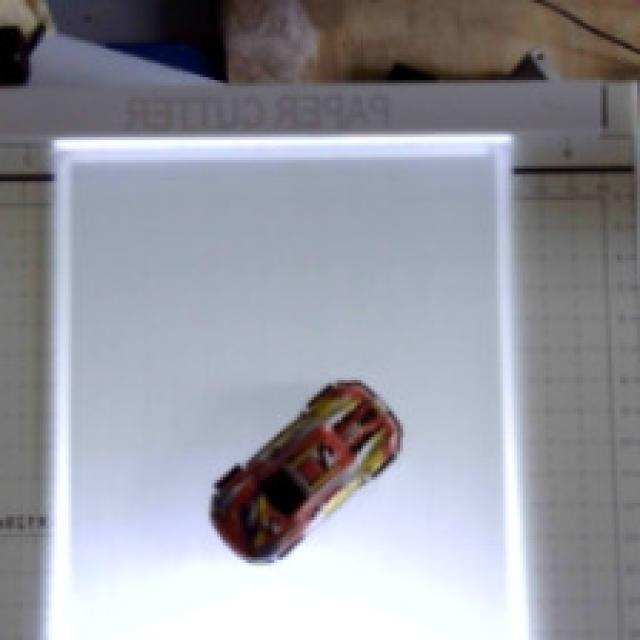Red Car: (160, 349, 419, 572)
